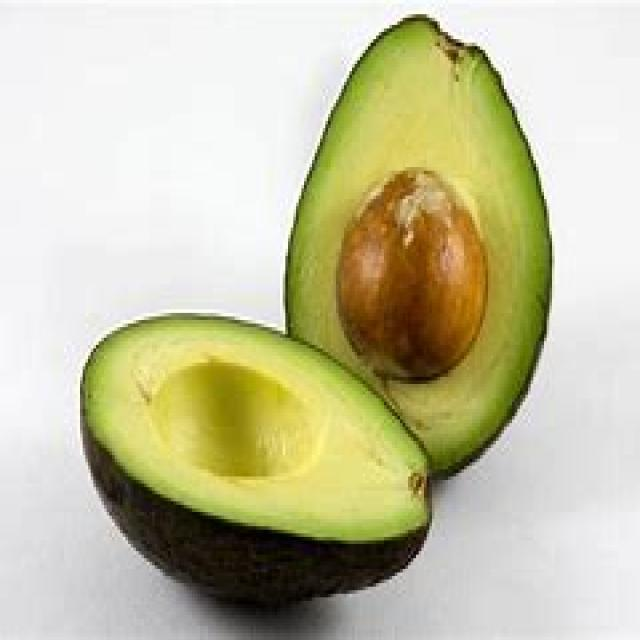avocado: (284, 12, 551, 472), (66, 308, 438, 610)
